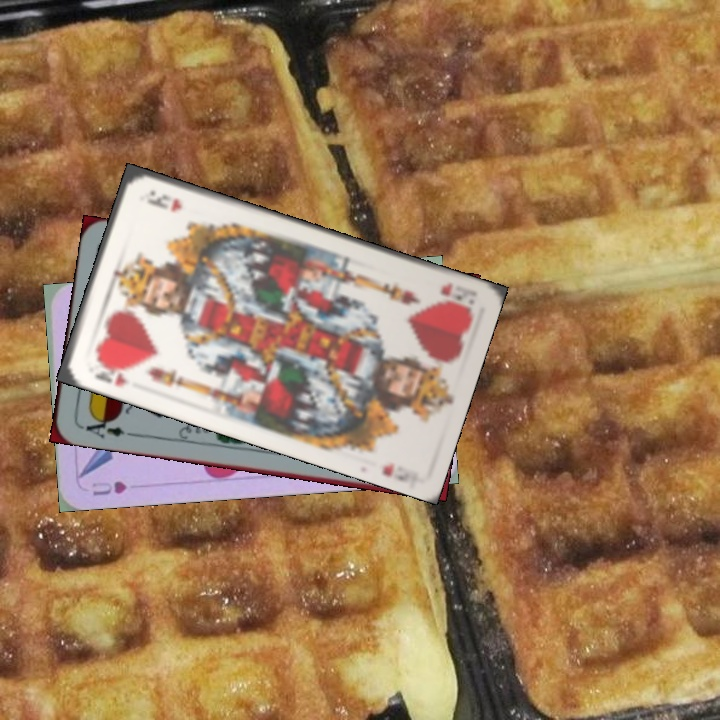EA: (77, 411, 127, 441)
HK: (90, 356, 131, 389), (436, 278, 472, 304)
HU: (88, 477, 130, 498)
